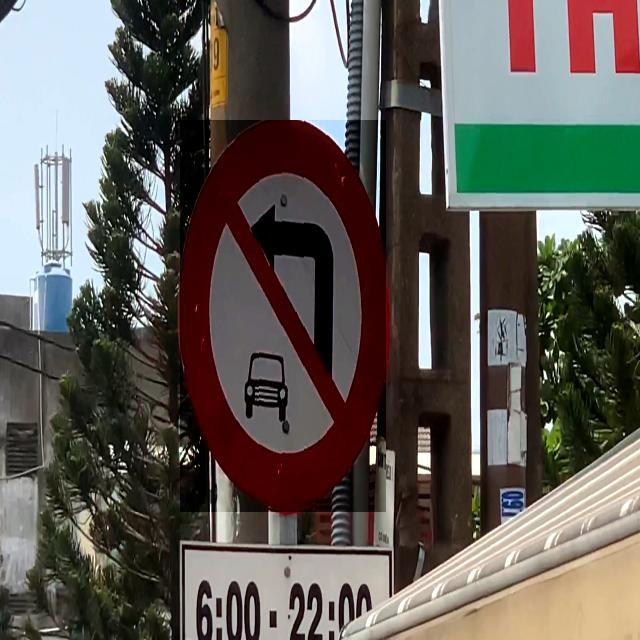bien_cam: (180, 120, 386, 512)
